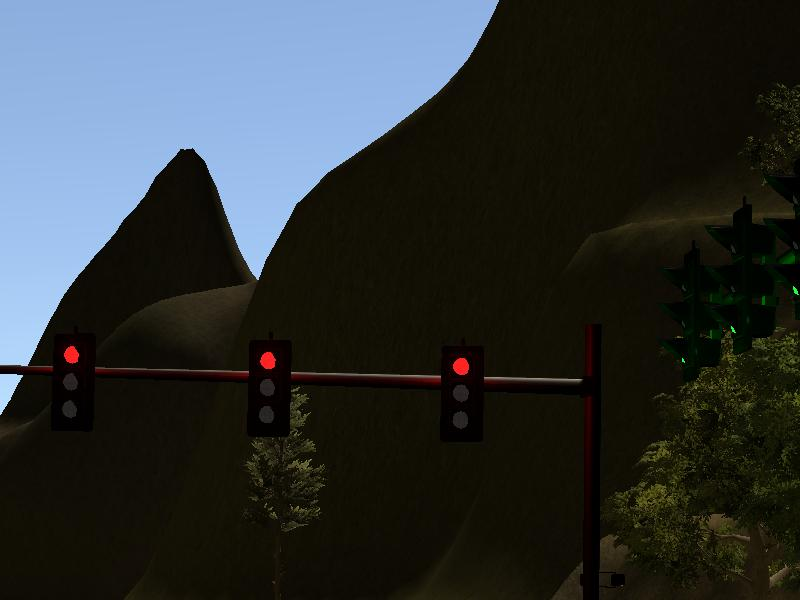Red: (440, 345, 482, 442), (252, 340, 289, 436), (54, 336, 92, 428)
